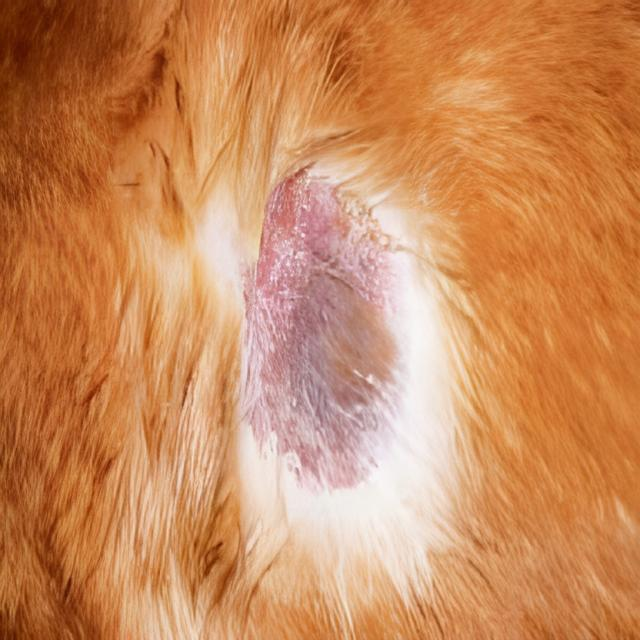hac lao: (186, 112, 450, 518)
